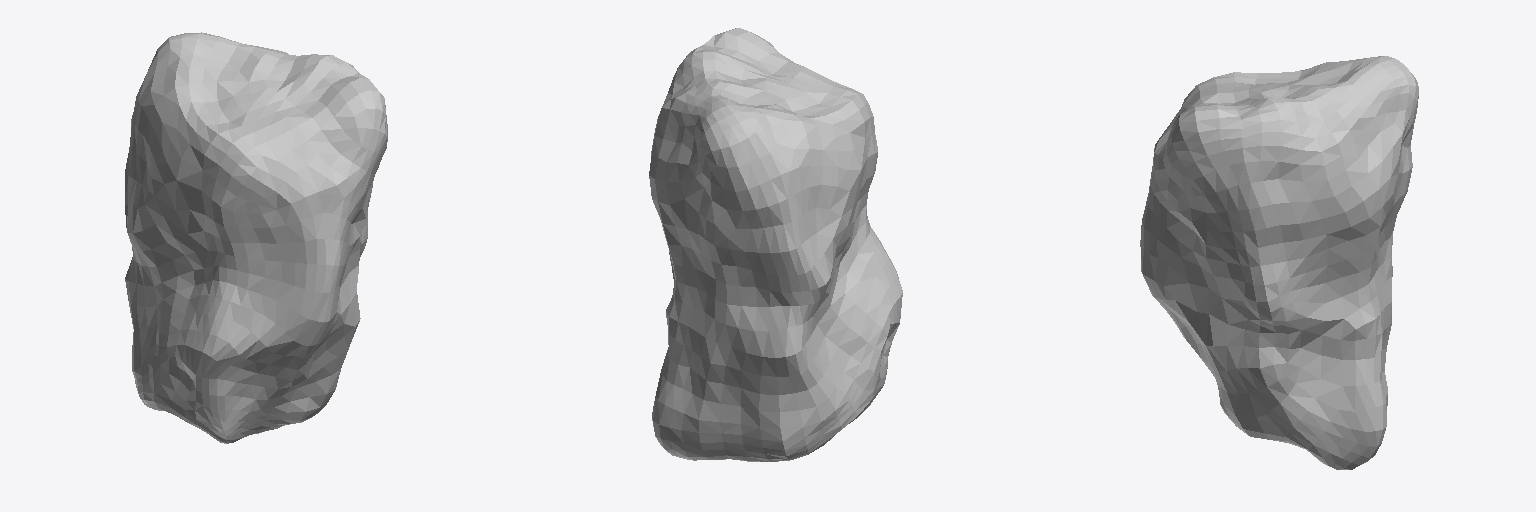
The model's file is asteroide9.obj.
3 views of the same model, side by side, from view 1: azimuth 30°, elevation 25°; view 2: azimuth 150°, elevation 25°; view 3: azimuth 270°, elevation 25° (orthographic).
Parts seen in each view (by area): view 1: Asteroid_no_9; view 2: Asteroid_no_9; view 3: Asteroid_no_9.
Part boxes in pixels (x1,y1,x2,y2): Asteroid_no_9: (125, 32, 387, 443); Asteroid_no_9: (649, 28, 902, 461); Asteroid_no_9: (1140, 56, 1418, 469).
Bounding box in the file's own units: 5.29 × 9.09 × 6.1.